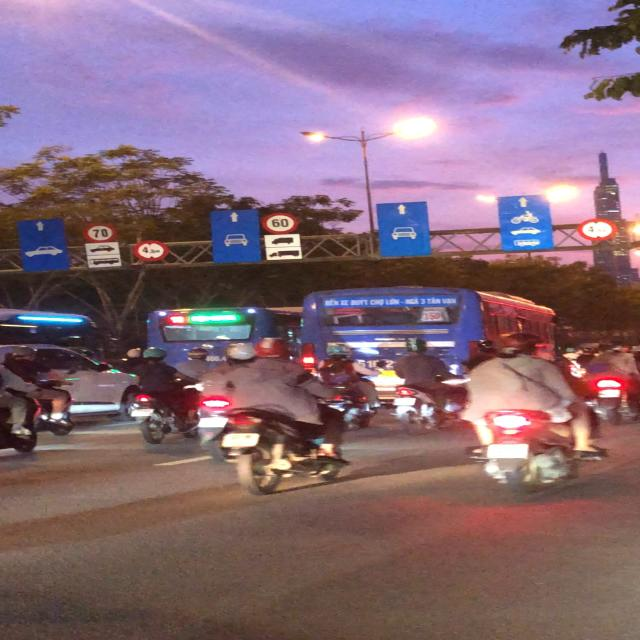Bien bao han che chieu cao: (576, 216, 622, 242), (132, 238, 170, 262)
Bien bao toc do toi da cho phep: (256, 212, 299, 236), (80, 220, 124, 243)
